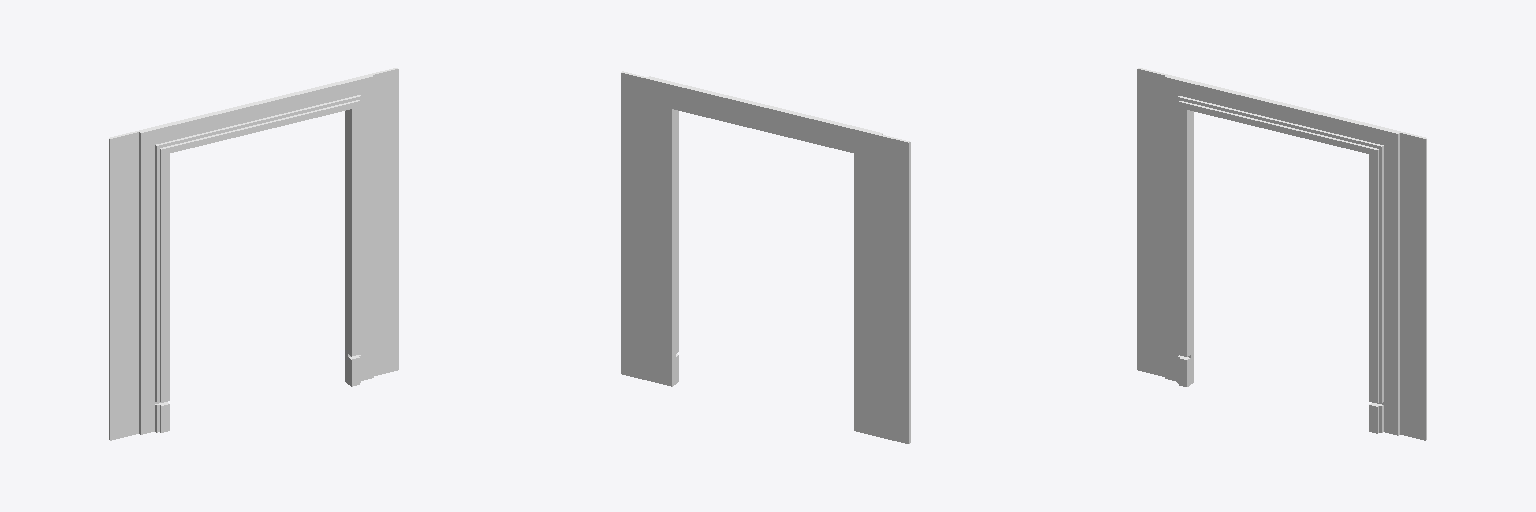
The model's file is mur_millieu_porte.obj.
3 renders of one model, left to right at view 1: azimuth 30°, elevation 25°; view 2: azimuth 150°, elevation 25°; view 3: azimuth 330°, elevation 25°, orthographic.
Bounding box in the file's own units: 100 × 100 × 4.